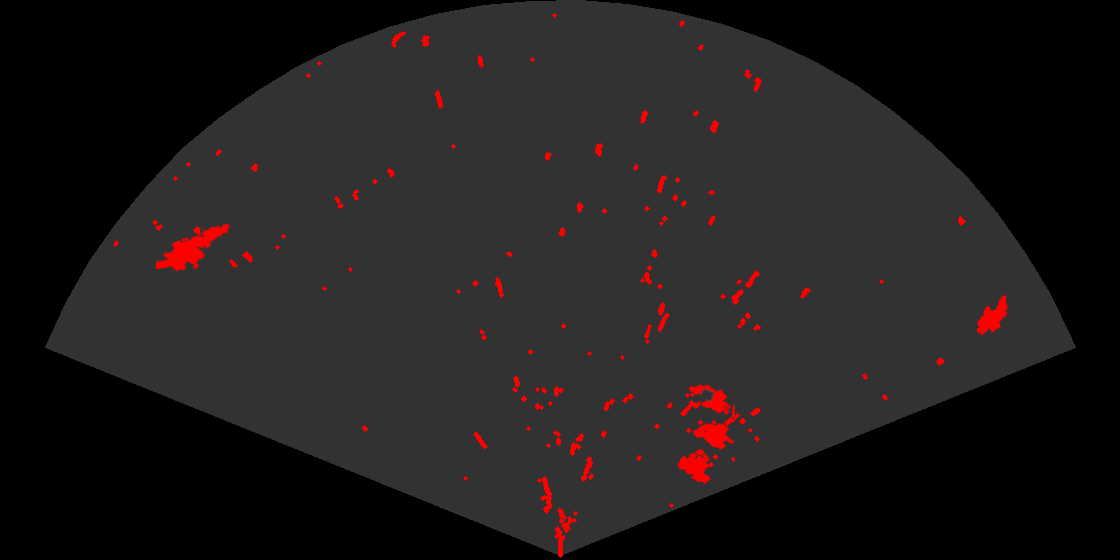AUV: (975, 293, 1009, 337), (687, 383, 733, 415)
cage: (676, 405, 735, 486)
frogman: (156, 222, 232, 273)
